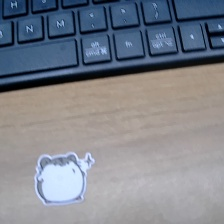mouse: (33, 152, 100, 207)
